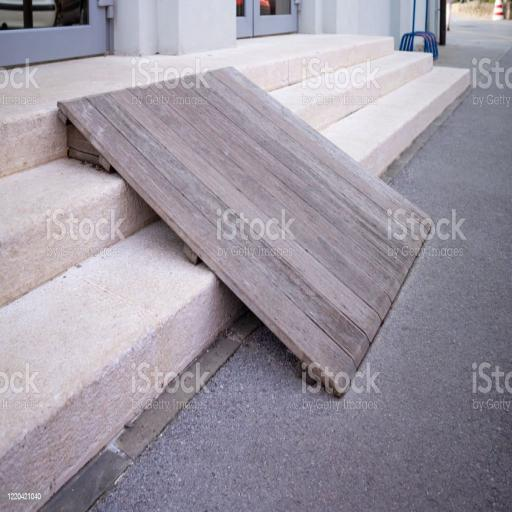ramp: (64, 69, 432, 395)
stairs: (1, 120, 232, 512), (237, 33, 469, 178)
